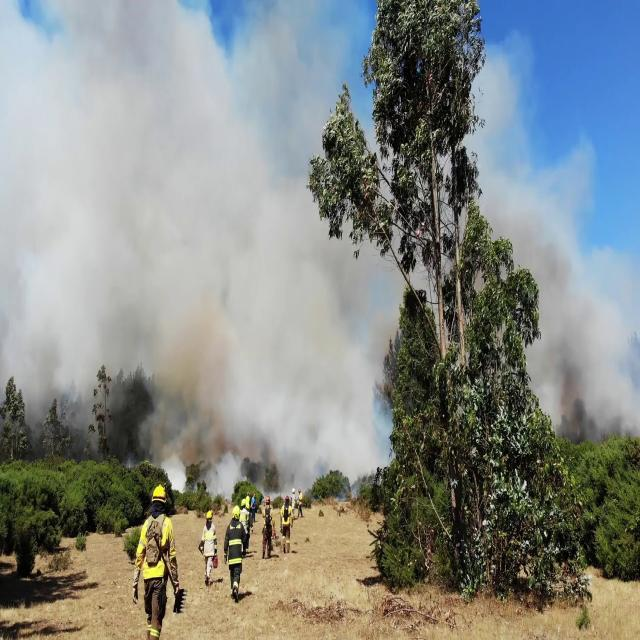Smoke: (0, 7, 399, 482), (524, 135, 640, 445)
